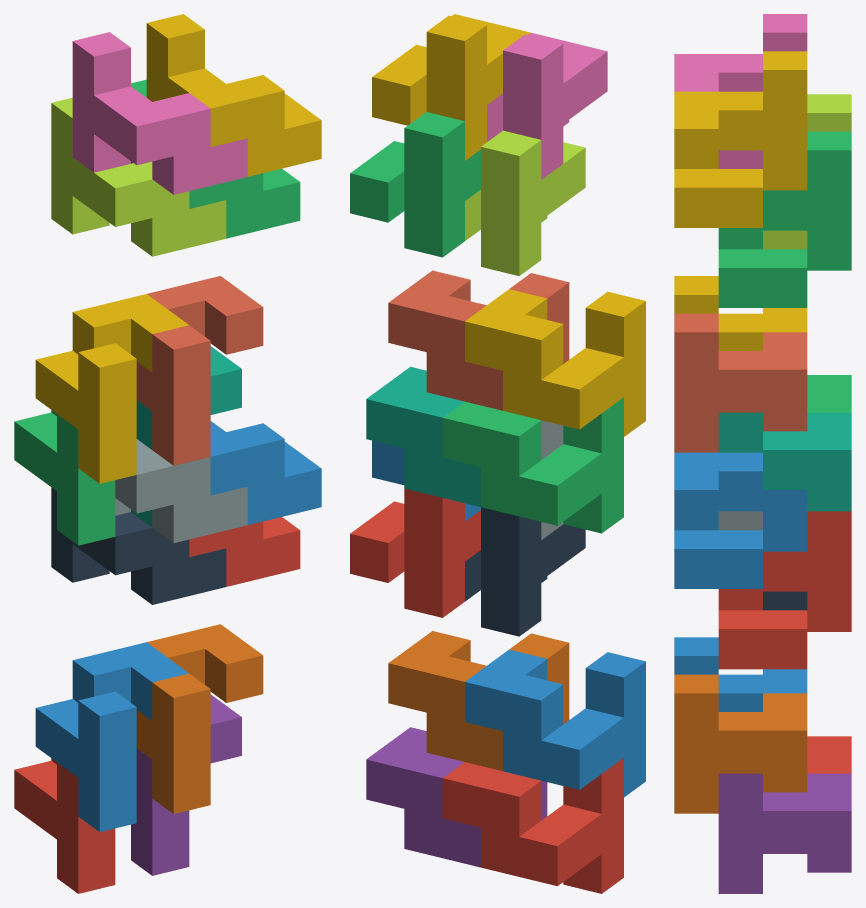
The model's file is tiling.obj.
3 renders of one model, left to right at view 1: azimuth 30°, elevation 25°; view 2: azimuth 150°, elevation 25°; view 3: azimuth 270°, elevation 25°, orthographic. The views are drawn at different scales.
Visible parts, largest first — view 1: copy_2_domain_4, copy_1_domain_4, copy_1_domain_2, copy_1_domain_6, copy_1_domain_8, copy_2_domain_8, copy_2_domain_3, copy_2_domain_1, copy_2_domain_6, copy_2_domain_2, copy_1_domain_3, copy_1_domain_1 (+4 smaller); view 2: copy_1_domain_2, copy_1_domain_4, copy_1_domain_1, copy_1_domain_3, copy_2_domain_7, copy_2_domain_8, copy_2_domain_5, copy_2_domain_3, copy_1_domain_6, copy_1_domain_8, copy_2_domain_4, copy_2_domain_1 (+4 smaller); view 3: copy_2_domain_8, copy_2_domain_7, copy_2_domain_6, copy_2_domain_5, copy_1_domain_6, copy_1_domain_8, copy_1_domain_5, copy_1_domain_7, copy_2_domain_4, copy_1_domain_2, copy_1_domain_4, copy_2_domain_3 (+4 smaller).
Boxes of the visible parts, <box> form: copy_2_domain_4: <box>72,32,247,194</box>; copy_1_domain_4: <box>35,294,188,483</box>; copy_1_domain_2: <box>35,642,188,831</box>; copy_1_domain_6: <box>136,624,263,813</box>; copy_1_domain_8: <box>136,276,263,465</box>; copy_2_domain_8: <box>146,14,321,176</box>; copy_2_domain_3: <box>51,97,226,256</box>; copy_2_domain_1: <box>51,487,226,604</box>; copy_2_domain_6: <box>210,421,321,524</box>; copy_2_domain_2: <box>115,439,247,542</box>; copy_1_domain_3: <box>14,410,115,545</box>; copy_1_domain_1: <box>14,758,115,893</box>; copy_1_domain_2: <box>465,649,645,797</box>; copy_1_domain_4: <box>465,289,645,436</box>; copy_1_domain_1: <box>442,758,623,893</box>; copy_1_domain_3: <box>442,397,623,533</box>; copy_2_domain_7: <box>350,112,480,257</box>; copy_2_domain_8: <box>372,14,530,160</box>; copy_2_domain_5: <box>350,488,480,617</box>; copy_2_domain_3: <box>465,130,585,275</box>; copy_1_domain_6: <box>388,631,569,771</box>; copy_1_domain_8: <box>388,270,569,410</box>; copy_2_domain_4: <box>487,32,607,179</box>; copy_2_domain_1: <box>465,507,585,636</box>; copy_2_domain_8: <box>674,51,807,227</box>; copy_2_domain_7: <box>718,131,851,307</box>; copy_2_domain_6: <box>674,452,807,588</box>; copy_2_domain_5: <box>718,511,851,669</box>; copy_1_domain_6: <box>674,674,807,813</box>; copy_1_domain_8: <box>674,313,807,452</box>; copy_1_domain_5: <box>718,773,851,893</box>; copy_1_domain_7: <box>718,412,851,511</box>; copy_2_domain_4: <box>674,14,807,168</box>; copy_1_domain_2: <box>674,637,807,711</box>; copy_1_domain_4: <box>674,276,807,350</box>; copy_2_domain_3: <box>763,94,851,249</box>.
Size of the model in its own units: 6 by 21 by 4.
